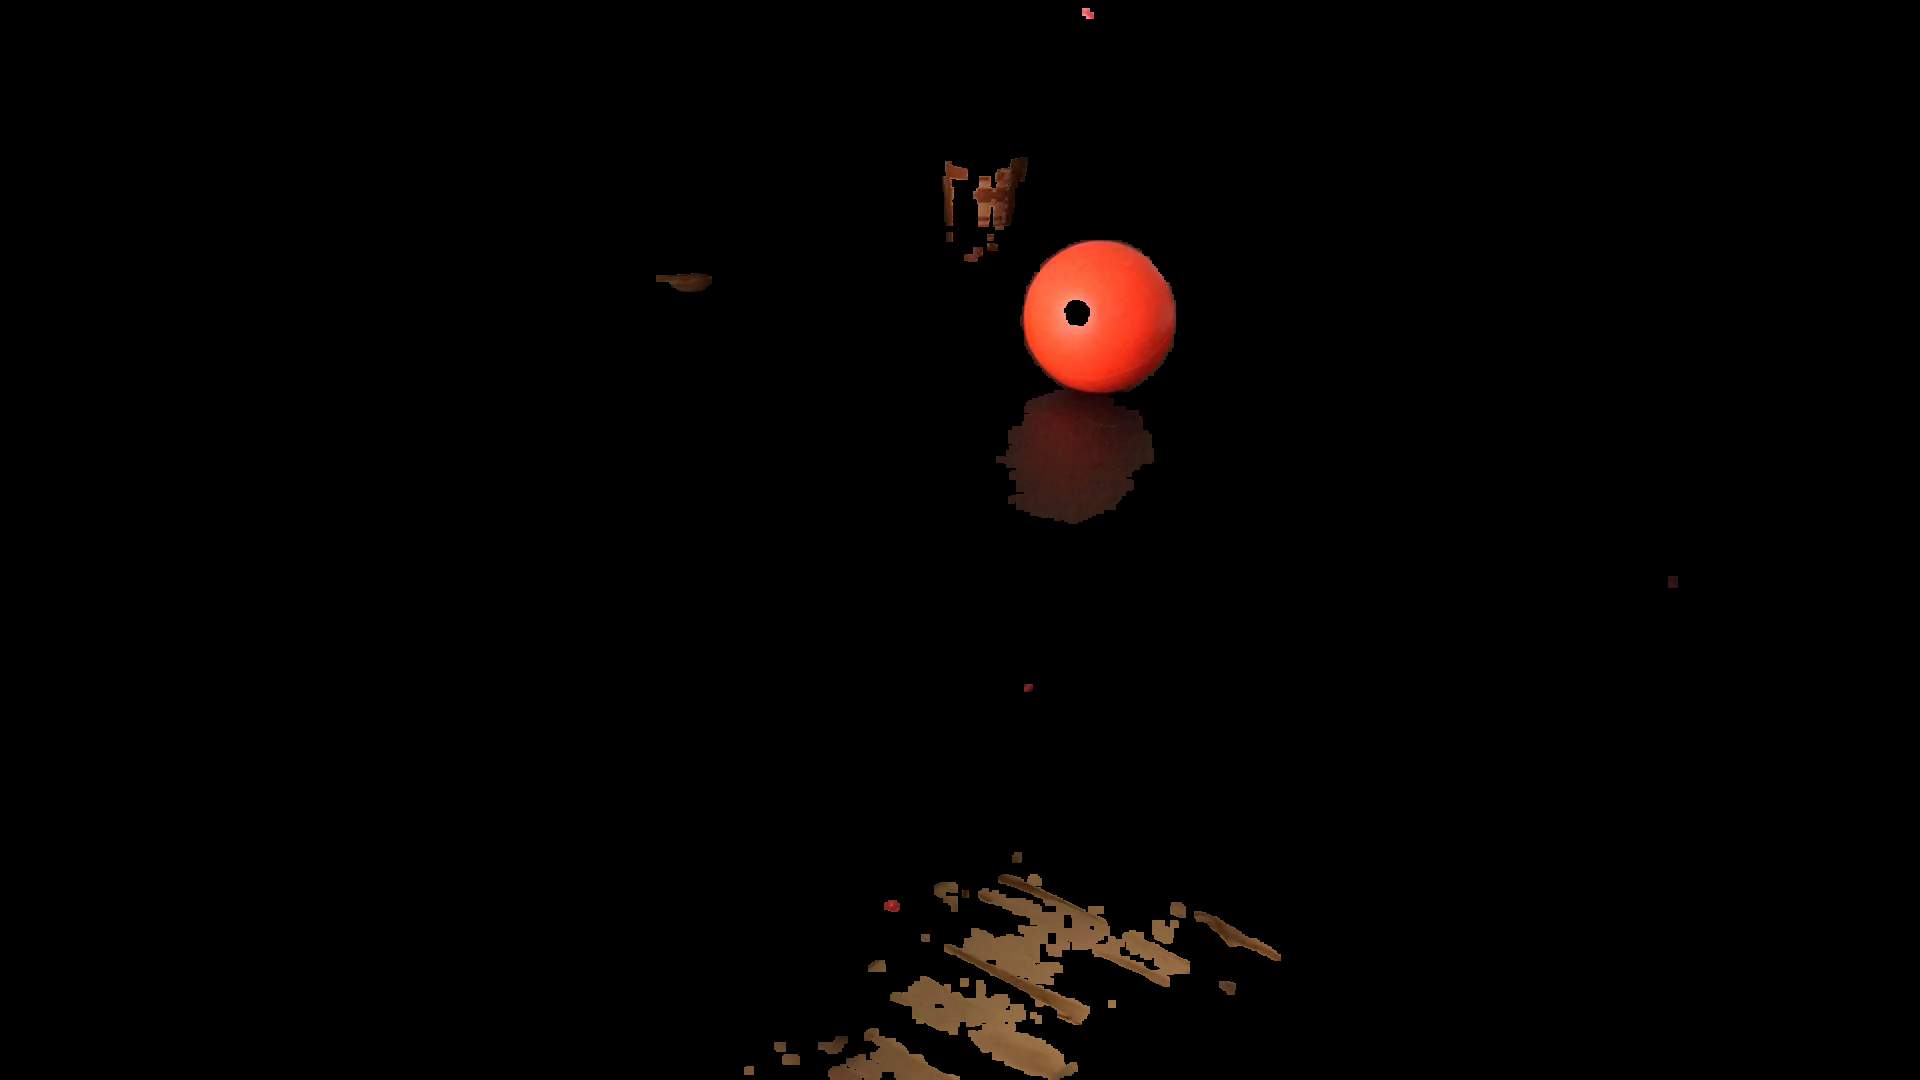Ball: (1018, 236, 1184, 400)
